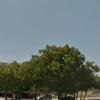Tree: (28, 43, 100, 90)
